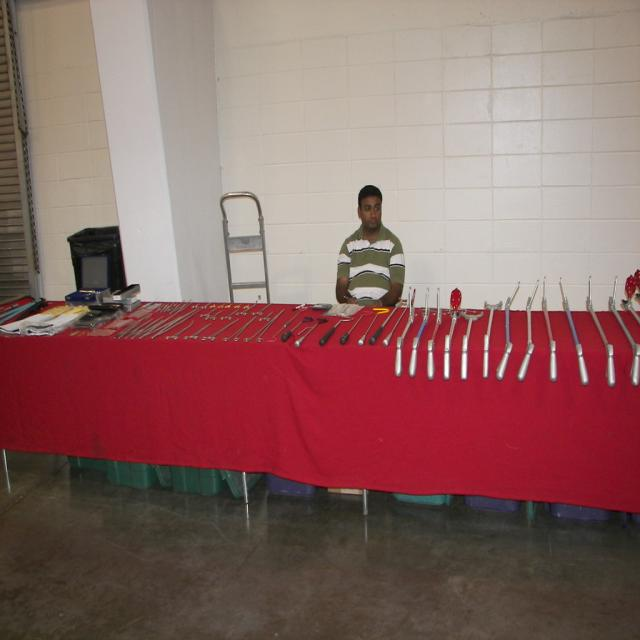Table: (0, 297, 640, 514)
